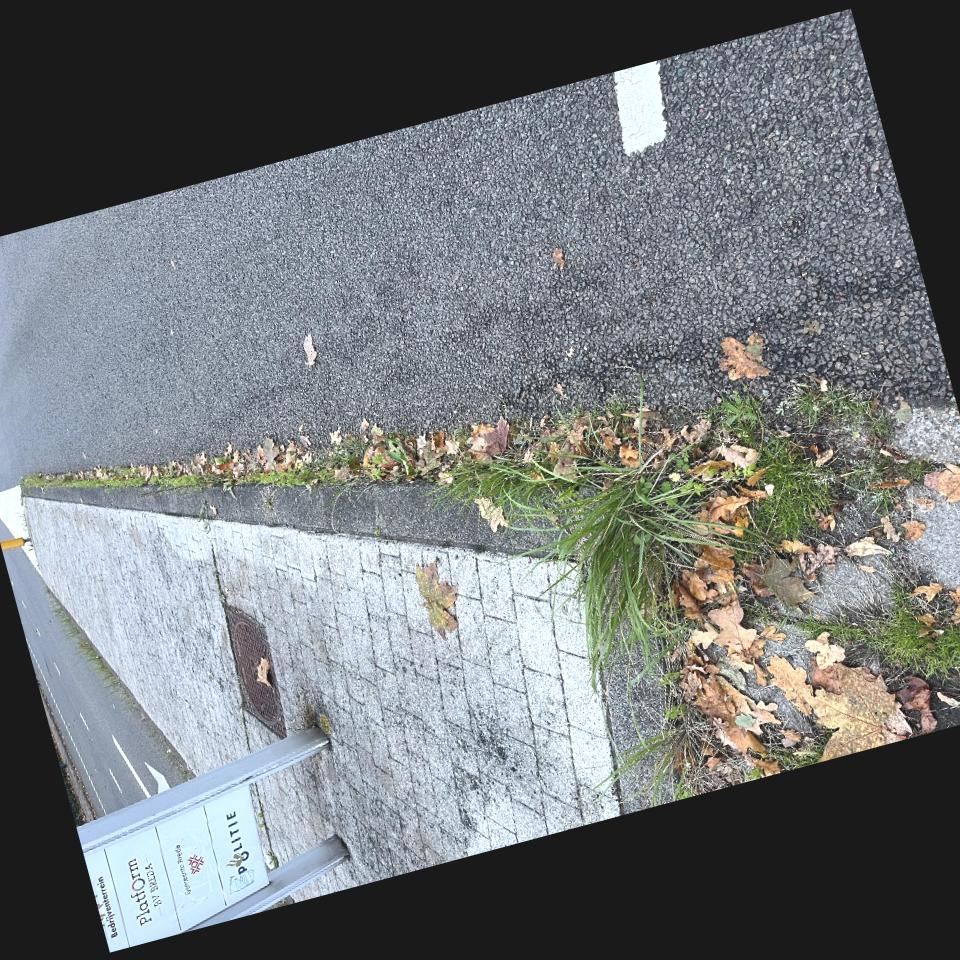weed: (556, 473, 707, 648), (23, 439, 371, 489), (469, 440, 658, 519), (803, 591, 960, 679), (751, 438, 832, 540), (593, 729, 681, 806), (385, 431, 415, 458), (733, 421, 757, 442)
